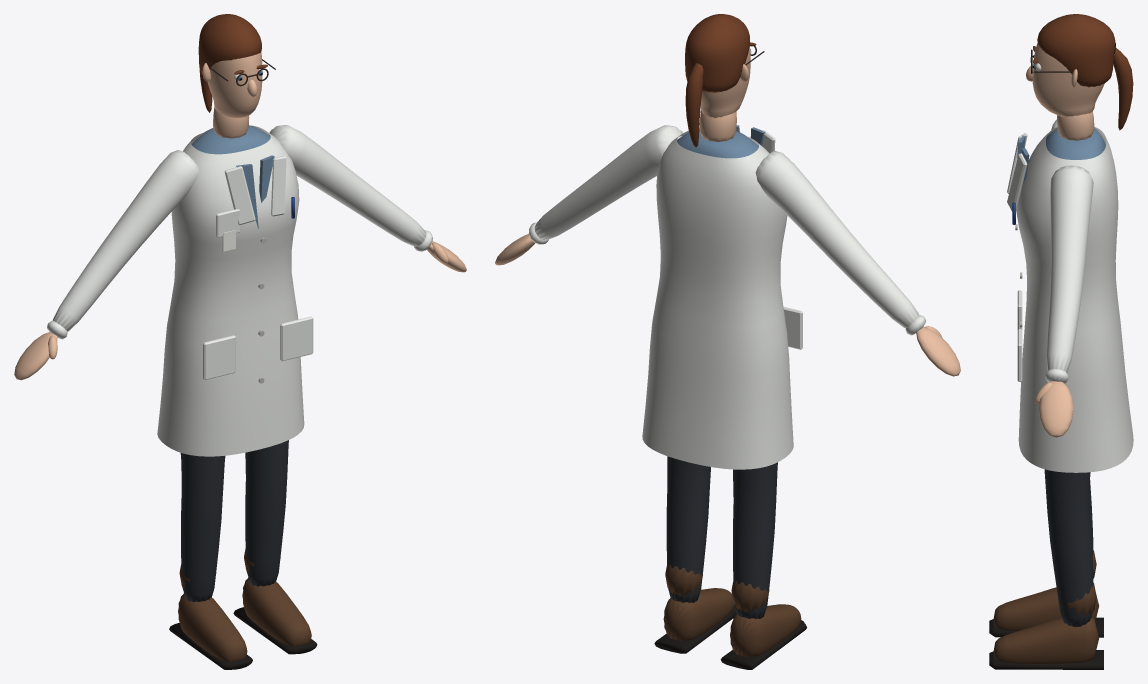
Rendered from lena_arden.glb.
3 renders of one model, left to right at view 1: azimuth 30°, elevation 25°; view 2: azimuth 150°, elevation 25°; view 3: azimuth 270°, elevation 25°, orthographic. The views are drawn at different scales.
Visible parts, largest first — view 1: lena_arden; view 2: lena_arden; view 3: lena_arden.
Boxes of the visible parts, <box> form: lena_arden: <box>14,14,466,669</box>; lena_arden: <box>495,14,960,669</box>; lena_arden: <box>989,14,1133,669</box>.
Size of the model in its own units: 1.3 by 1.7 by 0.3521.
